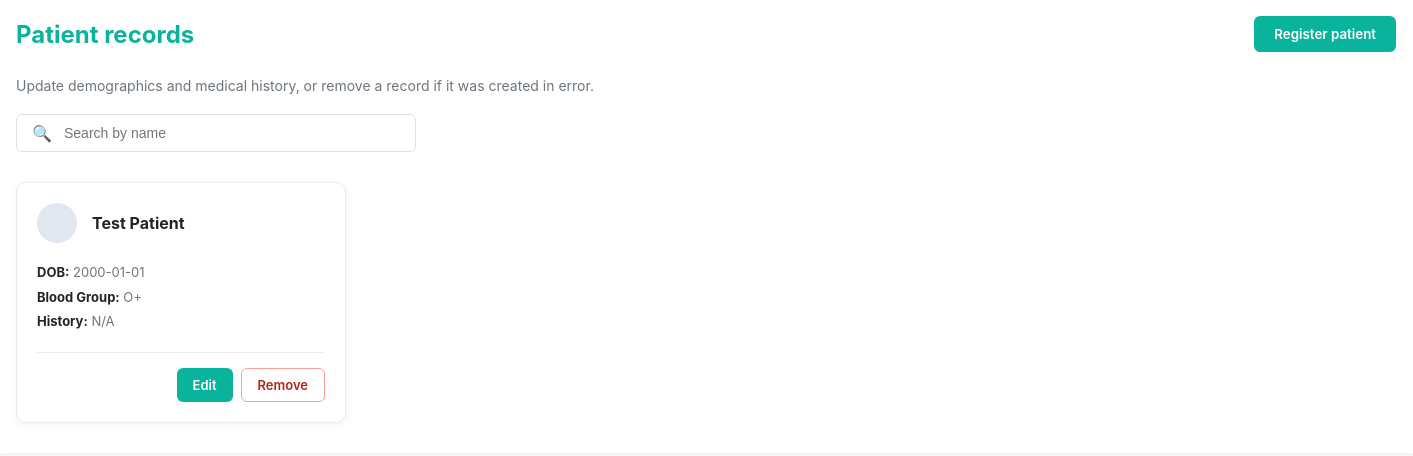
it: delete reports a rejected request instead of claiming success
The width and height of the screenshot is (1413, 456).
Click the button "Remove" at (283,384), box [240,368,325,402]
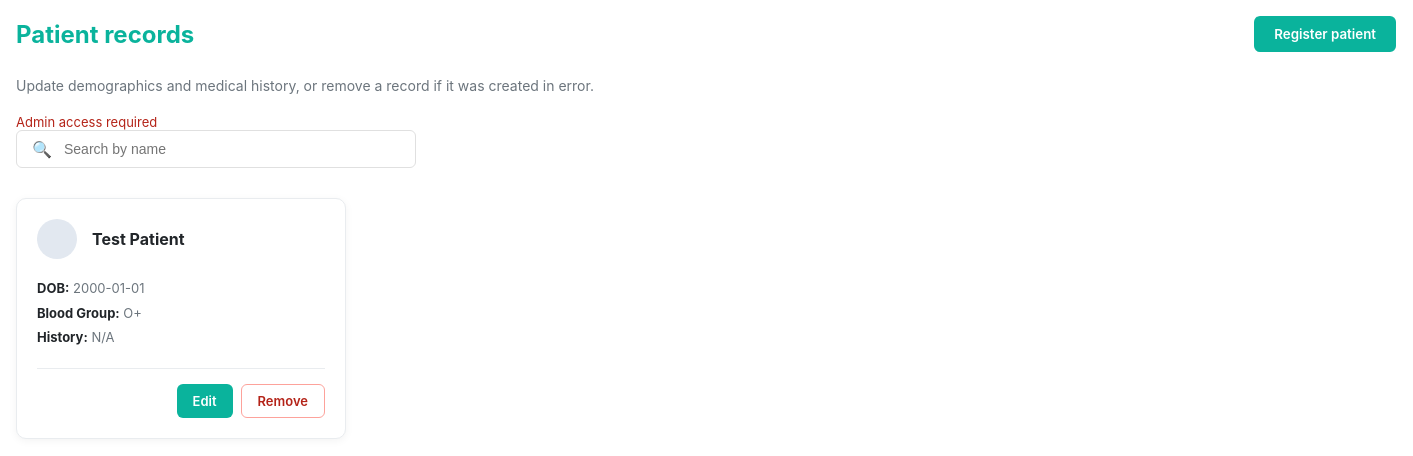
Result: the text "Admin access required" is shown at [16,114,157,130]
